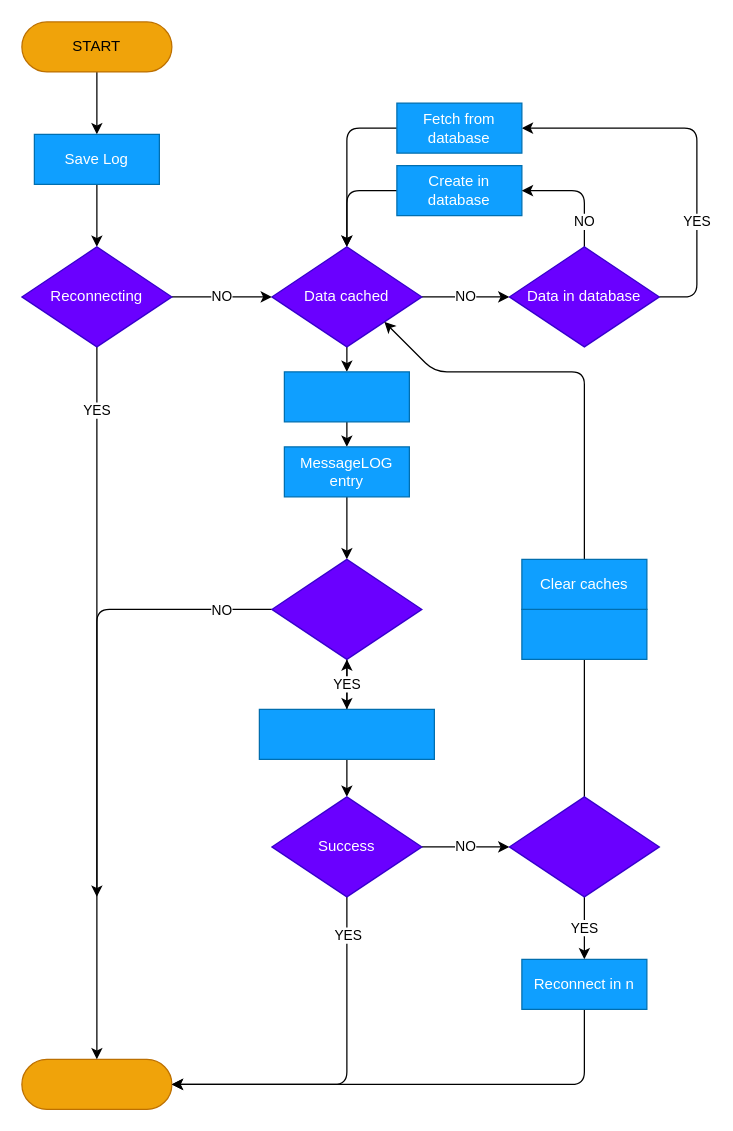
Image size: 733x1131. Some labels were removed from this diagram. The centre of each missing label's shape, as x and y in pixels:
"Disconnected" belongs at (x=583, y=846).
"END" belongs at (x=96, y=1083).
"Fetch from cache" belongs at (x=346, y=396).
"Has channels" belongs at (x=346, y=608).
"MessageChannelLOG entry" belongs at (x=346, y=733).
"Recreate tables" belongs at (x=584, y=633).
